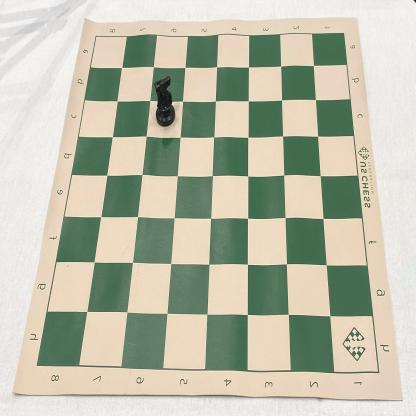black-knight: (154, 74, 176, 128)
